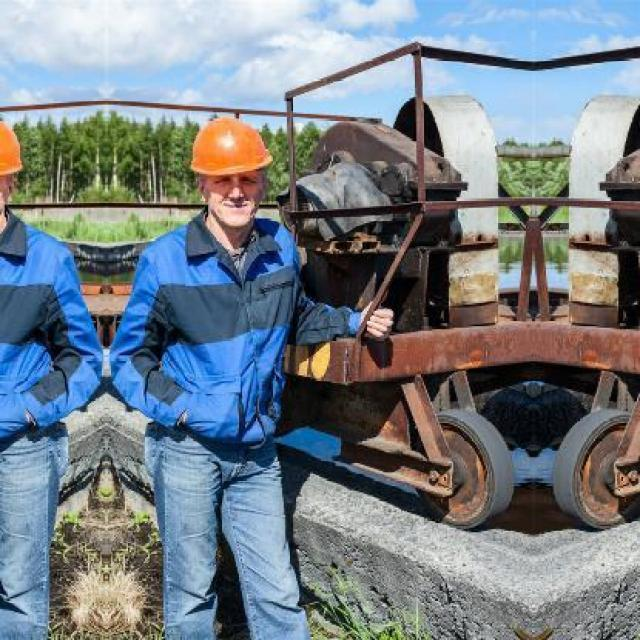person_with_helmet: (185, 111, 288, 179)
person_with_vest: (120, 221, 351, 443)
